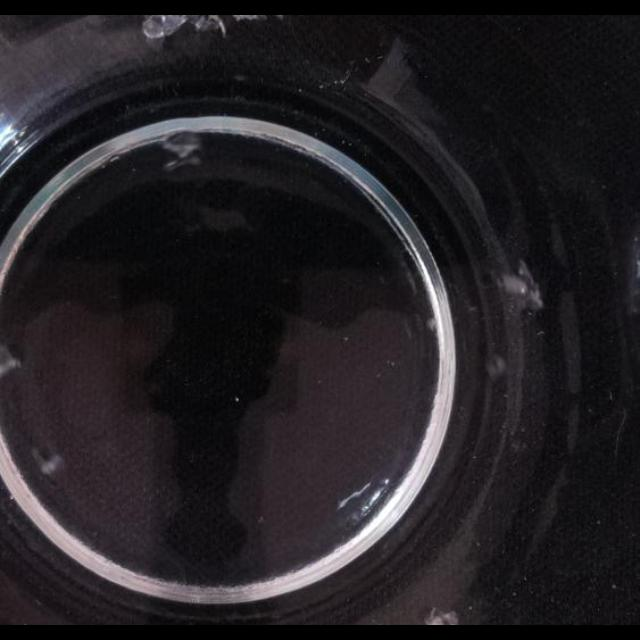Fibre: (158, 128, 212, 176), (510, 260, 544, 312), (35, 444, 67, 486), (0, 336, 16, 378), (426, 607, 458, 625)
microbeads: (426, 316, 438, 332), (342, 334, 350, 342), (234, 396, 240, 402)
